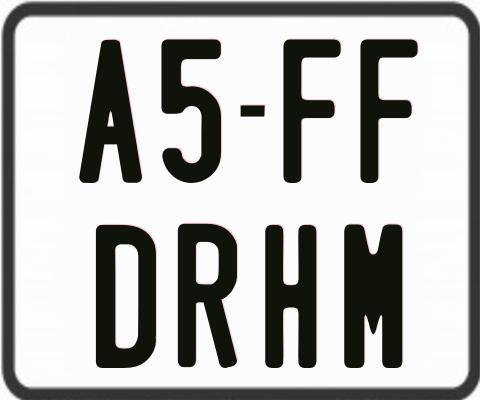5: (159, 38, 222, 184)
A: (79, 37, 147, 182)
D: (93, 225, 156, 370)
F: (282, 38, 343, 185), (358, 39, 416, 184)
H: (264, 224, 319, 367)
M: (344, 222, 407, 369)
R: (175, 221, 238, 367)
